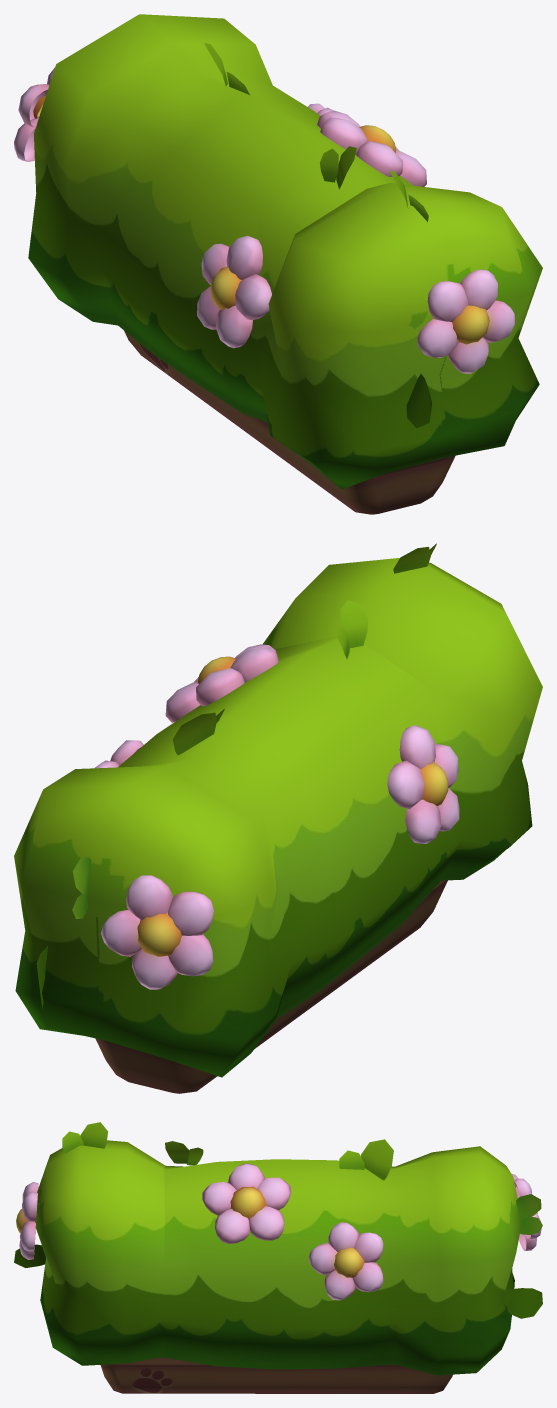
File: M_ST_ENV_Planter.fbx
The picture shows the model from 3 angles, top to bottom: view 1: azimuth 30°, elevation 25°; view 2: azimuth 150°, elevation 25°; view 3: azimuth 270°, elevation 25°; orthographic projection. The views are drawn at different scales.
Visible parts, largest first — view 1: bone_bush_fixed; view 2: bone_bush_fixed; view 3: bone_bush_fixed.
Part boxes in pixels (x1,y1,x2,y2): bone_bush_fixed: (14, 14, 542, 514); bone_bush_fixed: (14, 543, 542, 1093); bone_bush_fixed: (14, 1122, 542, 1393).
Bounding box in the file's own units: 0.1687 × 0.2311 × 0.4309.
1 material, 1 textured.
